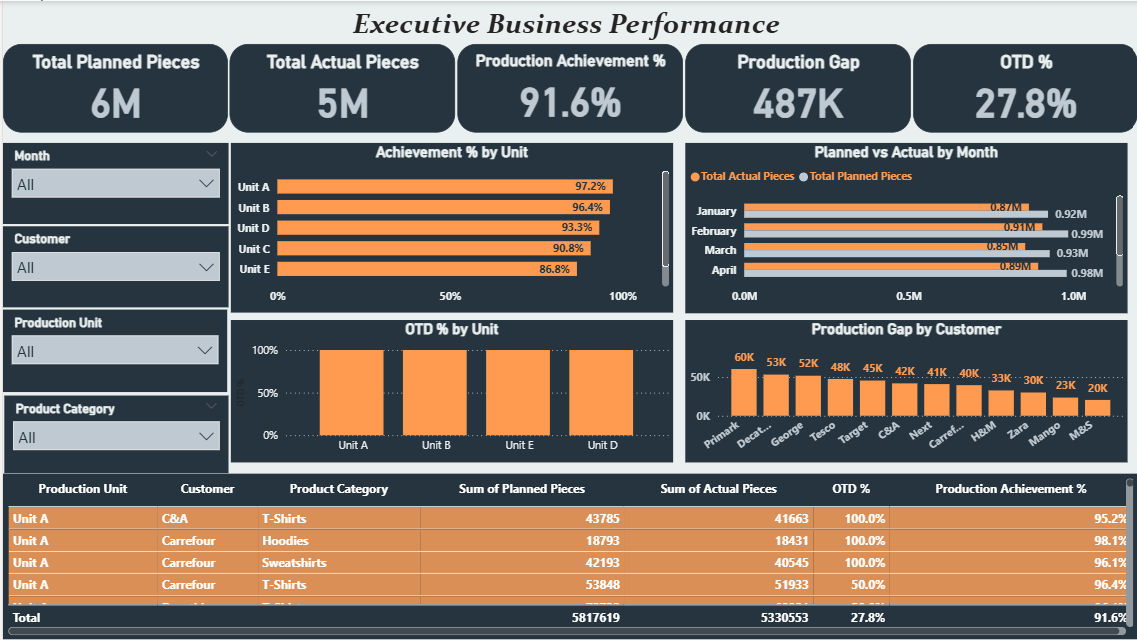

The page's visual inventory and layout, read from the dashboard file:
{"tool":"powerbi","page":{"name":"Production Performance","canvas":[1280,720],"ordinal":3},"visuals":[{"type":"textbox","box":[248.7,0,781.3,51.7],"z":0},{"type":"card","title":"Total Planned Pieces","fields":{"Values":["Measurs.Total Planned Pieces"]},"box":[0,48,253.7,99.7],"z":1000},{"type":"card","title":"Total Actual Pieces","fields":{"Values":["Measurs.Total Actual Pieces"]},"box":[256,47.9,254,100],"z":2000},{"type":"card","title":"Production Achievement %","fields":{"Values":["Measurs.Production Achievement %"]},"box":[512.4,47.9,254,100],"z":3000},{"type":"card","title":"Production Gap","fields":{"Values":["Measurs.Production Gap"]},"box":[768.7,47.9,254,100],"z":4000},{"type":"card","title":"OTD %","fields":{"Values":["Measurs.OTD %"]},"box":[1025.1,47.9,254,100],"z":5000},{"type":"slicer","fields":{"Values":["Production_Data.Month Name"]},"box":[0,159.7,254,91.1],"z":6000},{"type":"slicer","fields":{"Values":["Production_Data.Customer"]},"box":[0,254,254,91.1],"z":7000},{"type":"slicer","fields":{"Values":["Production_Data.Production Unit"]},"box":[0,348.2,252.4,92.7],"z":8000},{"type":"clusteredBarChart","title":"Planned vs Actual by Month","fields":{"Category":["Production_Data.Month.Variation.Date Hierarchy.Month"],"Y":["Measurs.Total Actual Pieces","Measurs.Total Planned Pieces"]},"box":[768.4,159.7,498.4,191.7],"z":9000},{"type":"hundredPercentStackedColumnChart","title":"OTD % by Unit","fields":{"Y":["Measurs.OTD %"],"Category":["Production_Data.Production Unit"]},"box":[256.2,359.6,498.6,160.5],"z":10000},{"type":"clusteredColumnChart","title":"Production Gap by Customer","fields":{"Category":["Production_Data.Customer"],"Y":["Measurs.Production Gap"]},"box":[768.7,359.6,498.6,160.5],"z":11000},{"type":"tableEx","title":"Customer Performance Matrix","fields":{"Values":["Production_Data.Production Unit","Production_Data.Customer","Production_Data.Product Category","Sum(Production_Data.Planned Pieces)","Sum(Production_Data.Actual Pieces)","Measurs.OTD %","Measurs.Production Achievement %"]},"box":[0,532.5,1279.6,186.8],"z":12000},{"type":"barChart","title":"Achievement % by Unit","fields":{"Y":["Measurs.Production Achievement %"],"Category":["Production_Data.Production Unit"]},"box":[256.2,160.5,498.6,191.4],"z":13000},{"type":"slicer","fields":{"Values":["Production_Data.Product Category"]},"box":[1.6,444.1,252.4,87.9],"z":14000}]}

Visuals, with their boxes in screenshot pixels (x1, y1, x2, y2), scaled from the page's 1280x720 canvas onto the 1137x640 screenshot:
textbox: Rect(221, 0, 915, 46)
"Total Planned Pieces" card: Rect(0, 43, 225, 131)
"Total Actual Pieces" card: Rect(227, 43, 453, 131)
"Production Achievement %" card: Rect(455, 43, 681, 131)
"Production Gap" card: Rect(683, 43, 908, 131)
"OTD %" card: Rect(911, 43, 1136, 131)
slicer - Production_Data.Month Name: Rect(0, 142, 226, 223)
slicer - Production_Data.Customer: Rect(0, 226, 226, 307)
slicer - Production_Data.Production Unit: Rect(0, 310, 224, 392)
"Planned vs Actual by Month" clusteredBarChart: Rect(683, 142, 1125, 312)
"OTD % by Unit" hundredPercentStackedColumnChart: Rect(228, 320, 670, 462)
"Production Gap by Customer" clusteredColumnChart: Rect(683, 320, 1126, 462)
"Customer Performance Matrix" tableEx: Rect(0, 473, 1136, 639)
"Achievement % by Unit" barChart: Rect(228, 143, 670, 313)
slicer - Production_Data.Product Category: Rect(1, 395, 226, 473)
